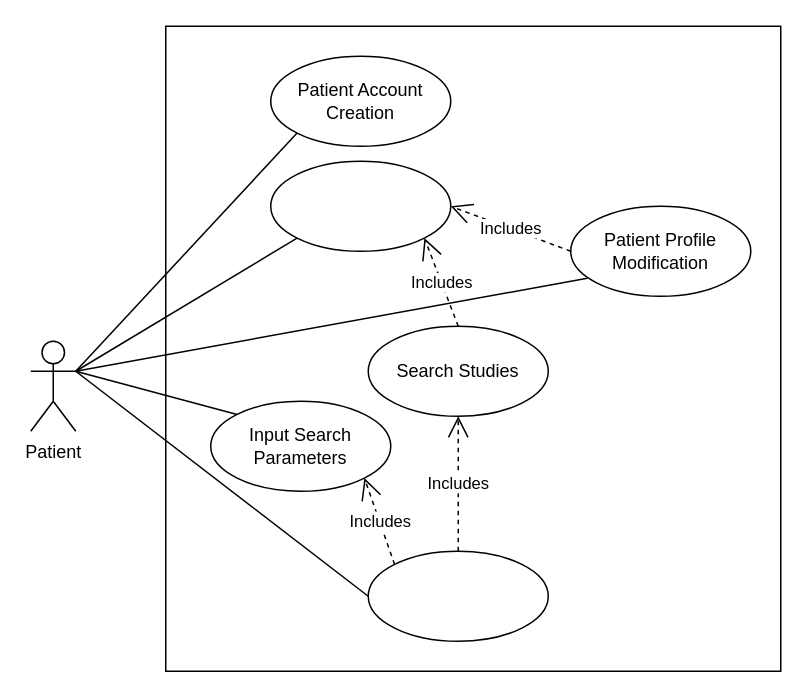
This 807x698 diagram has some shape labels left out. The shapes that lost their labels are listed below. From the top down, each one's centre as x and y in pixels, then its label:
pixel 360 205: Patient Login
pixel 457 595: Send Email to Organizer
